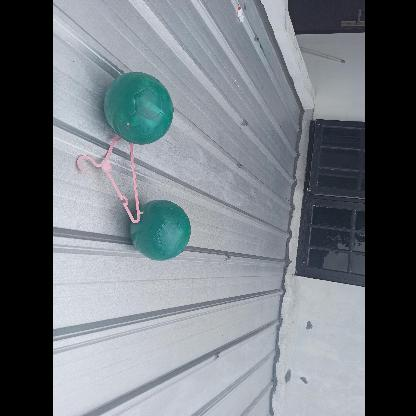green_ball: (101, 72, 176, 146), (130, 200, 190, 260)
